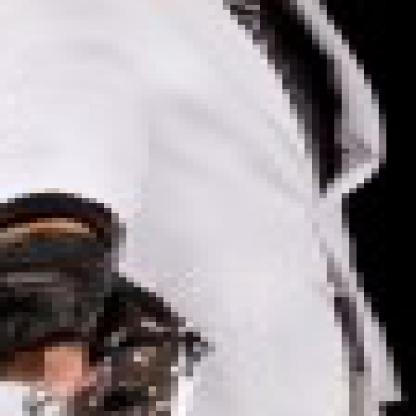gun: (0, 248, 223, 411)
